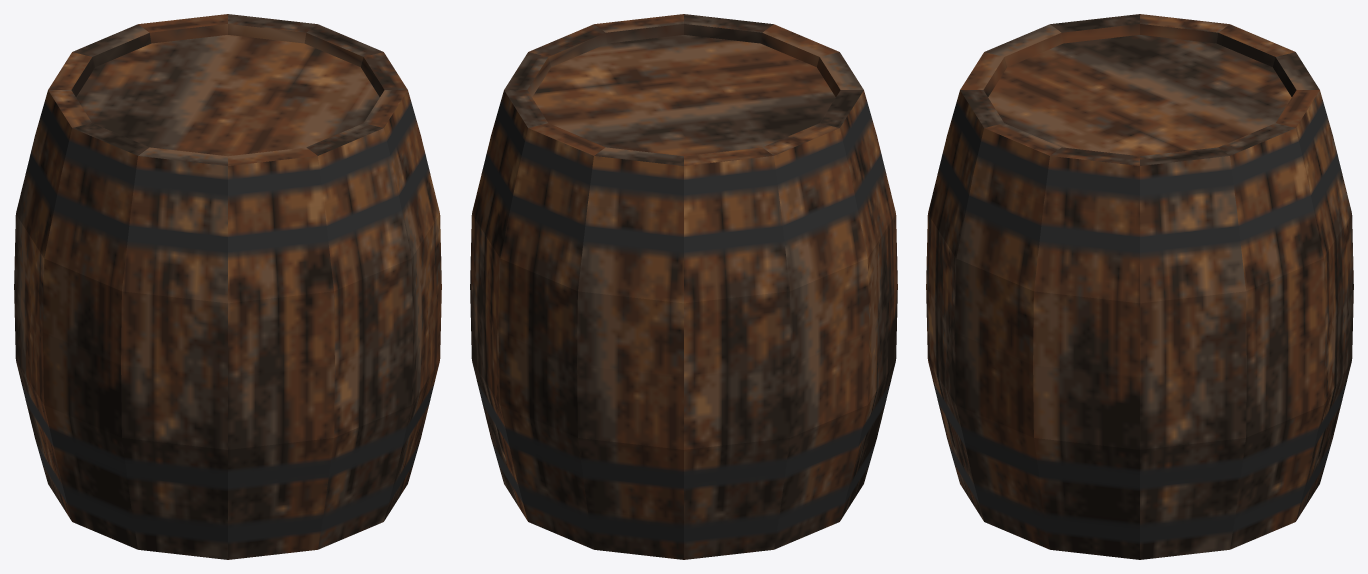
Rendered from wooden_barrel_1.fbx.
The picture shows the model from 3 angles, left to right: view 1: azimuth 30°, elevation 25°; view 2: azimuth 150°, elevation 25°; view 3: azimuth 270°, elevation 25°; orthographic projection.
Visible parts, largest first — view 1: Wooden Barrel.001; view 2: Wooden Barrel.001; view 3: Wooden Barrel.001.
Part boxes in pixels (left/top/right/bottom): Wooden Barrel.001: left=14, top=14, right=441, bottom=559; Wooden Barrel.001: left=470, top=14, right=897, bottom=559; Wooden Barrel.001: left=926, top=14, right=1353, bottom=559.
Bounding box in the file's own units: 229 × 233 × 229.
